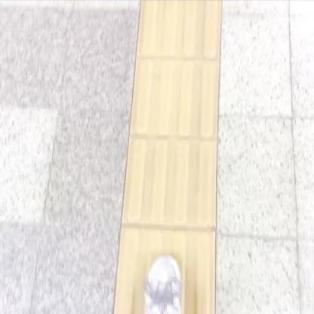Podoctatil: (112, 2, 223, 314)
